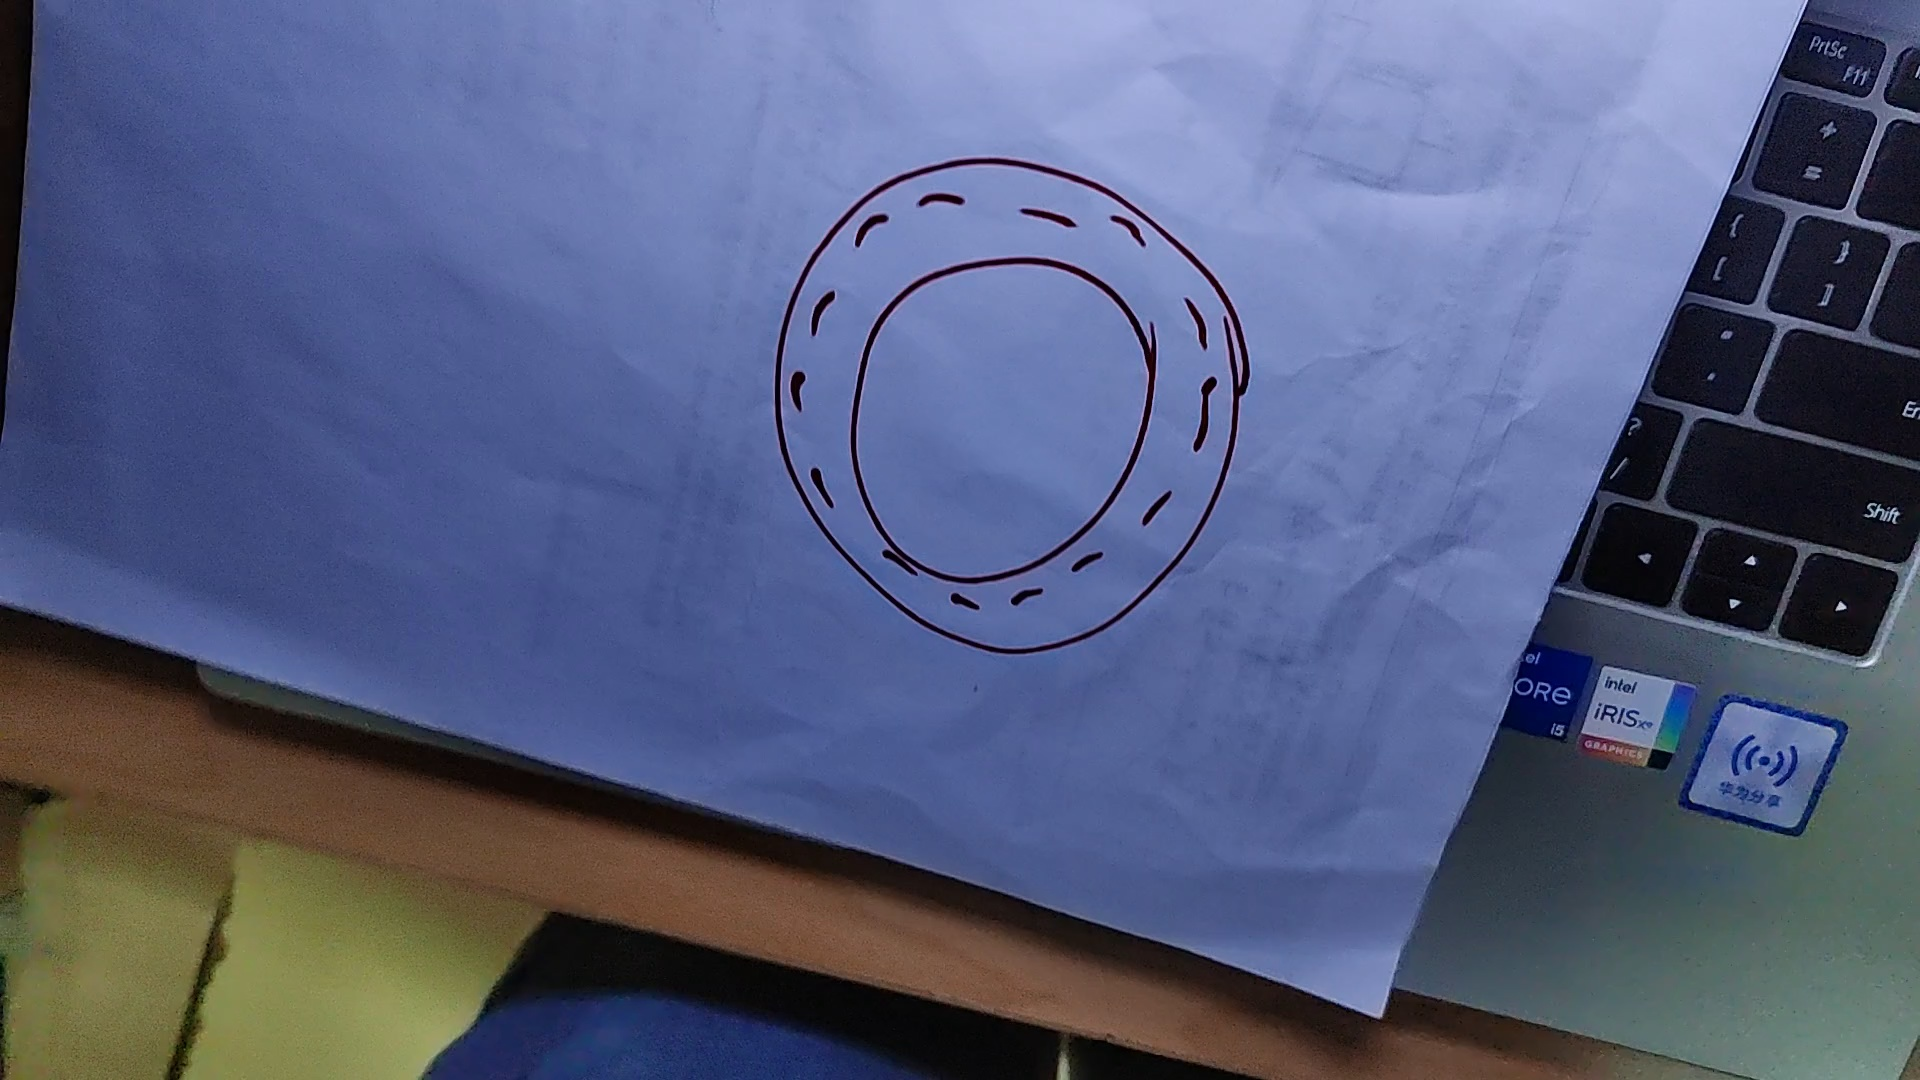circle: (773, 157, 1250, 654)
